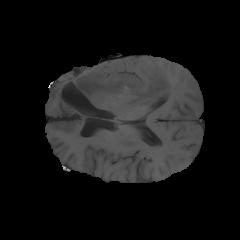glioma: (56, 63, 171, 118)
